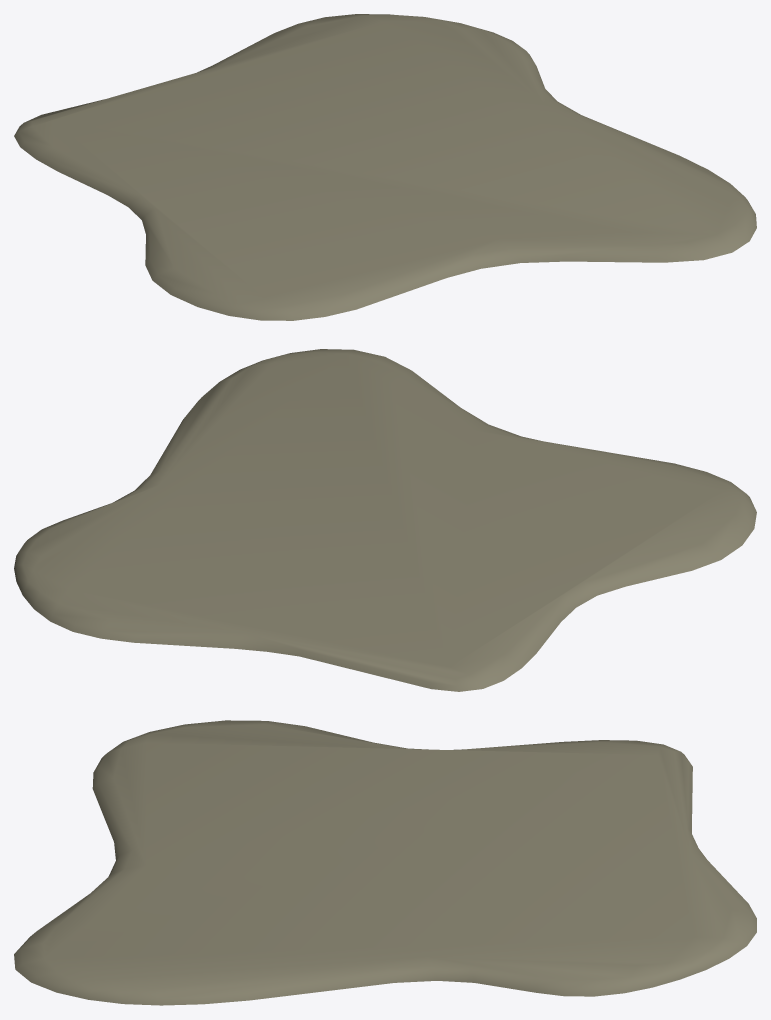
The model's file is slime.fbx.
3 renders of one model, top to bottom at view 1: azimuth 30°, elevation 25°; view 2: azimuth 150°, elevation 25°; view 3: azimuth 270°, elevation 25°, orthographic. The views are drawn at different scales.
Visible parts, largest first — view 1: slime; view 2: slime; view 3: slime.
Boxes of the visible parts, x1,y1,x2,y2 form: slime: (14, 14, 756, 320); slime: (14, 349, 756, 691); slime: (14, 720, 756, 1005).
Bounding box in the file's own units: 208 × 4.3 × 231.
